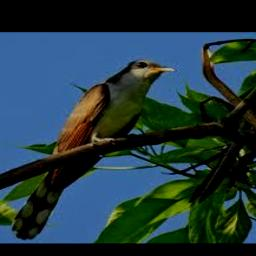Cuckoo: (11, 59, 176, 240)
